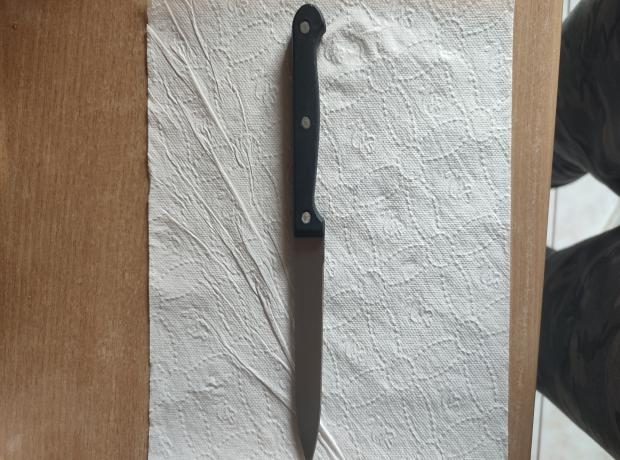metal: (291, 2, 324, 460)
